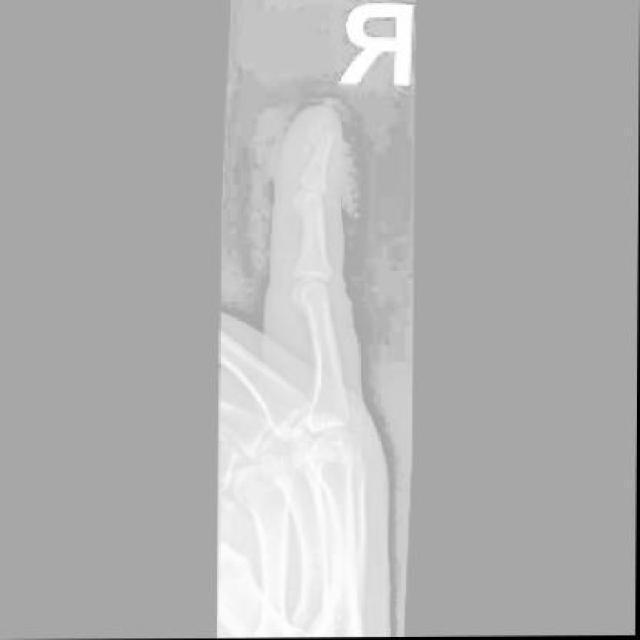Fracture: (305, 115, 339, 162)
